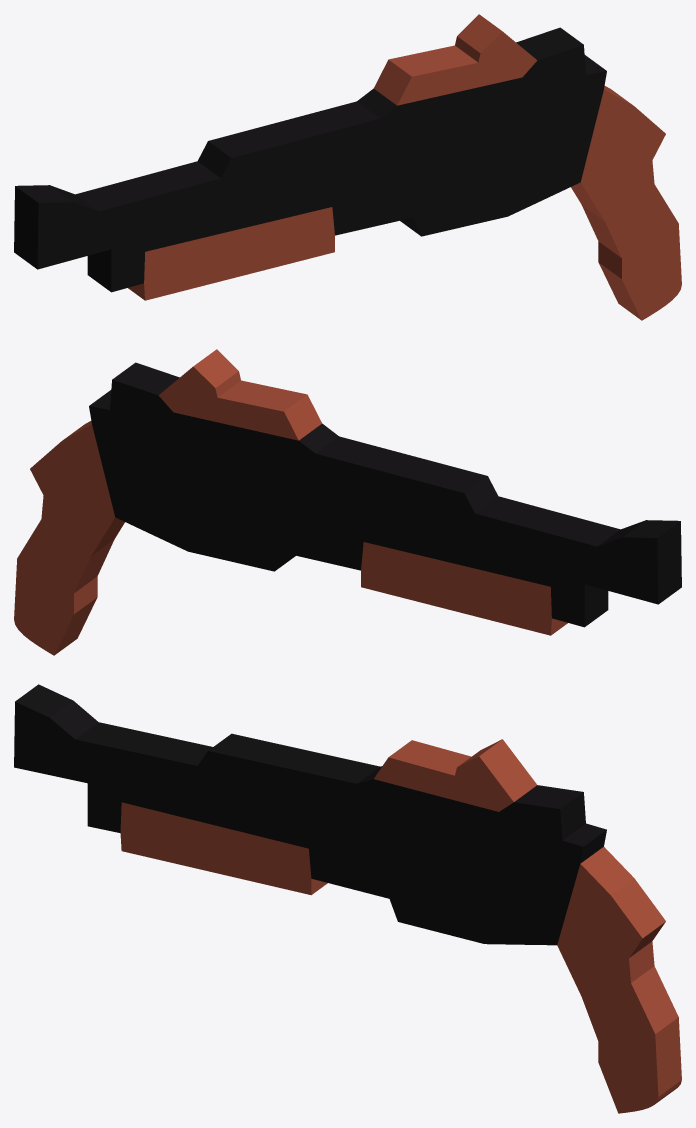
3 views of the same model, one above another, from view 1: azimuth 30°, elevation 25°; view 2: azimuth 150°, elevation 25°; view 3: azimuth 330°, elevation 25° (orthographic).
Visible parts, largest first — view 1: Line001; view 2: Line001; view 3: Line001.
Boxes of the visible parts, <box> form: Line001: <box>14,14,681,320</box>; Line001: <box>14,349,681,655</box>; Line001: <box>14,684,681,1113</box>.
Bounding box in the file's own units: 230 × 110 × 14.58.
